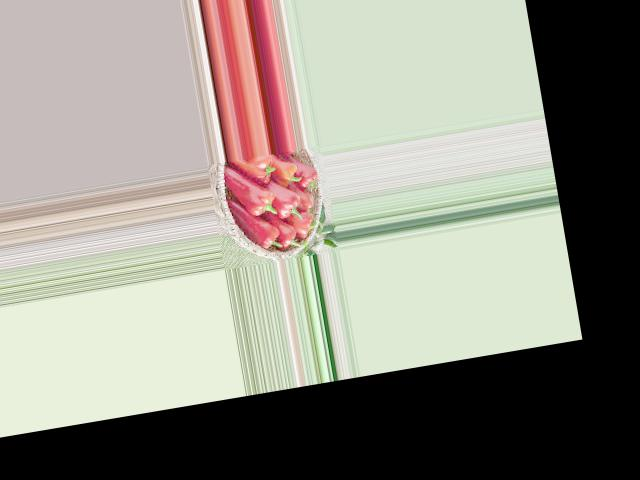bell_pepper: (274, 219, 302, 253)
